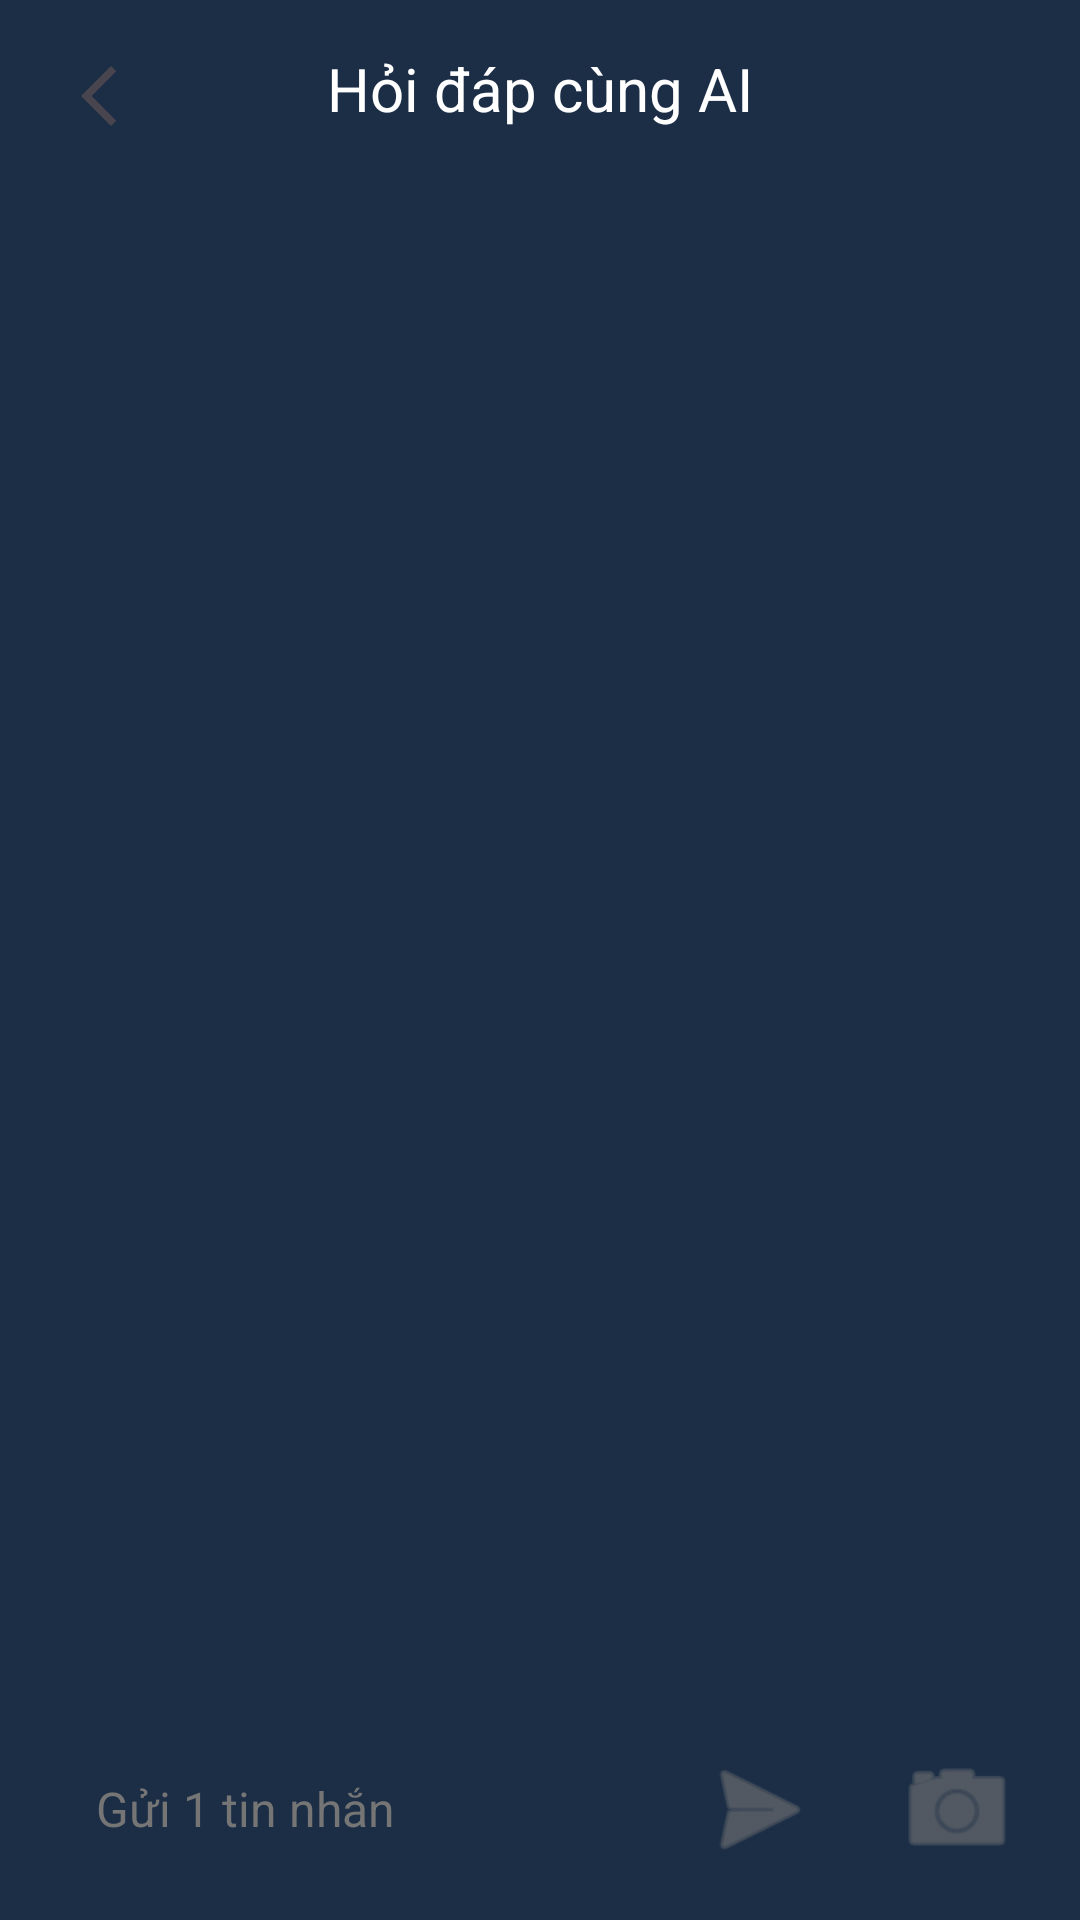

Where icons sit on this 1080px×1920px app screen, as [x1,y1,x2,y2]:
arrow back: [82,67,116,125]
camera: [909,1769,1005,1845]
send: [721,1771,800,1848]
